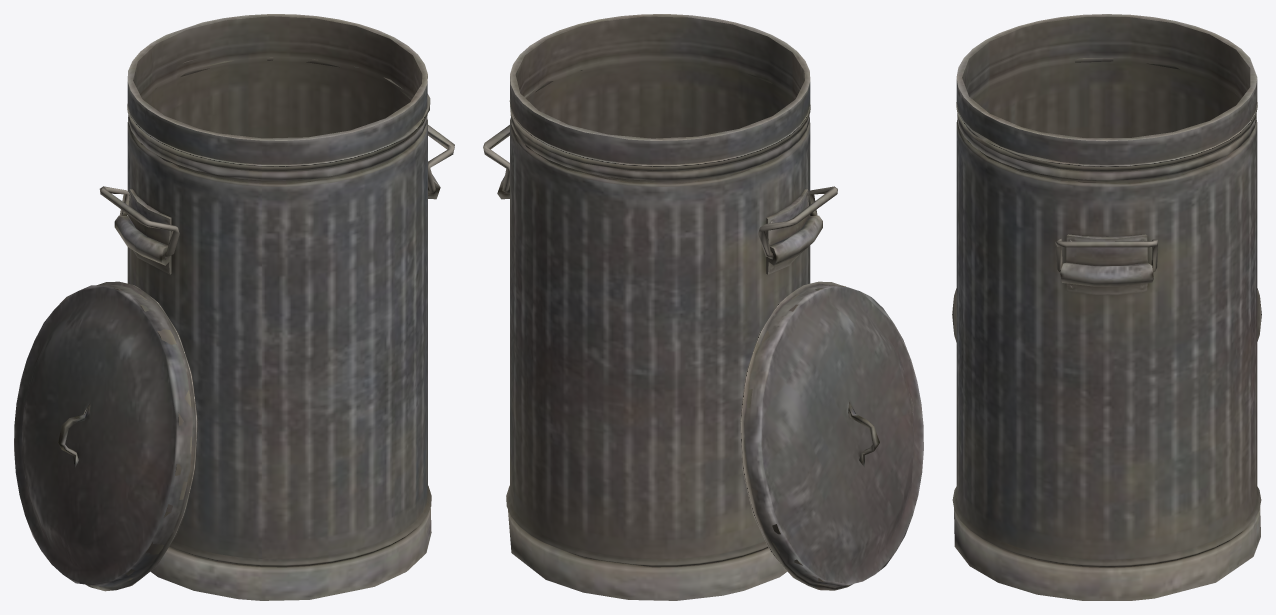
The model's file is trash_can.glb.
3 renders of one model, left to right at view 1: azimuth 30°, elevation 25°; view 2: azimuth 150°, elevation 25°; view 3: azimuth 270°, elevation 25°, orthographic.
Parts seen in each view (by area): view 1: metal_trash_can_handle_left; view 2: metal_trash_can_handle_left; view 3: metal_trash_can_handle_left.
Part boxes in pixels (left/top/right/bottom): metal_trash_can_handle_left: left=14, top=14, right=454, bottom=600; metal_trash_can_handle_left: left=483, top=14, right=923, bottom=600; metal_trash_can_handle_left: left=952, top=14, right=1261, bottom=600.
Bounding box in the file's own units: 0.7773 × 0.9062 × 0.5543.
Materials: 1 (1 with a texture image).
